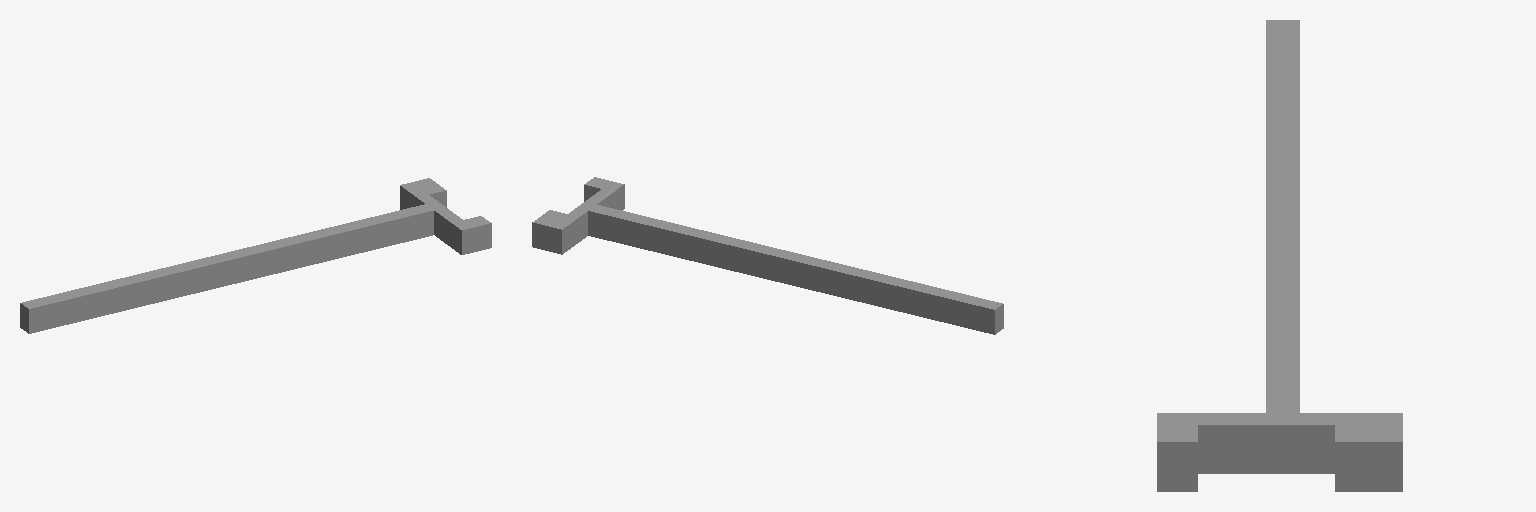
robot.urdf — coat_hanger:
<?xml version="1.0" ?>
<robot name="coat_hanger">
  <link name="coat_hanger">
    <inertial>
      <!-- <density value="1000.0"/> -->
      <mass value="0.25"/>
      <origin rpy="0 0 0" xyz="0 0 0"/>
      <inertia ixx="1e-4" ixy="0" ixz="0" iyy="1e-4" iyz="0" izz="1e-4"/> -->
    </inertial>
    <visual>
      <origin rpy="0 0 0" xyz="-0.1 -0.05 0.02"/>
      <geometry>
        <!-- <sphere radius=".0375"/> -->
          <mesh filename="meshes/coat_hanger.obj"/>
      </geometry>
      <material name="Grey">
        <color rgba="0.65 0.65 0.65 1"/>
      </material>
    </visual>
    <collision>
      <origin rpy="0 0 0" xyz="-0.1 -0.05 0.02"/>
      <geometry>
        <!-- <sphere radius=".0375"/> -->
        <mesh filename="meshes/coat_hanger.obj"/>
      </geometry>
    </collision>
  </link>
</robot>

--- Facts derived from the render (not from the file) ---
The picture shows the robot from 3 angles, left to right: view 1: azimuth 30°, elevation 25°; view 2: azimuth 150°, elevation 25°; view 3: azimuth 270°, elevation 25°; orthographic projection.
Robot: coat_hanger — 1 links, 0 joints (none); root link coat_hanger; default pose: every joint at zero.
Visible links, largest first — view 1: coat_hanger; view 2: coat_hanger; view 3: coat_hanger.
Boxes of the visible links, <box> form: coat_hanger: <box>20,178,491,333</box>; coat_hanger: <box>532,177,1003,334</box>; coat_hanger: <box>1157,20,1402,491</box>.
Size in the robot's own frame: 0.73 by 0.18 by 0.04 metres.
Meshes: 1 distinct files referenced, 1 mesh visuals loaded (1 OBJ).